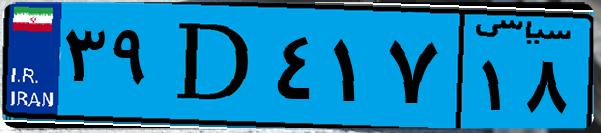1: (330, 28, 385, 110), (475, 38, 525, 113)
3: (57, 26, 110, 100)
4: (270, 28, 330, 110)
7: (385, 28, 445, 110)
8: (525, 38, 570, 115)
9: (110, 28, 158, 98)
D: (158, 12, 270, 120)
